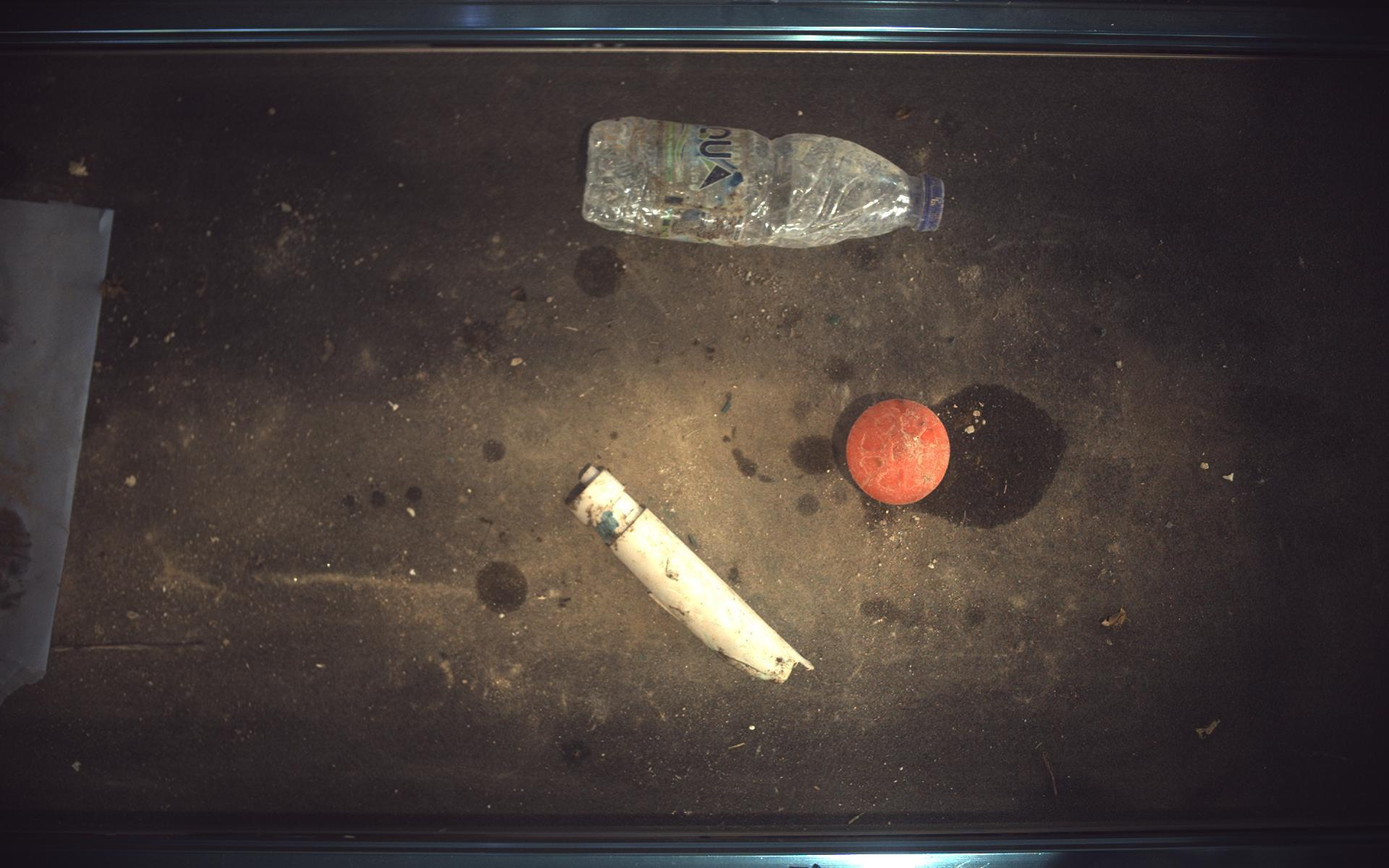general_w: (583, 116, 945, 247)
plastic: (566, 464, 814, 683), (848, 399, 952, 505)
